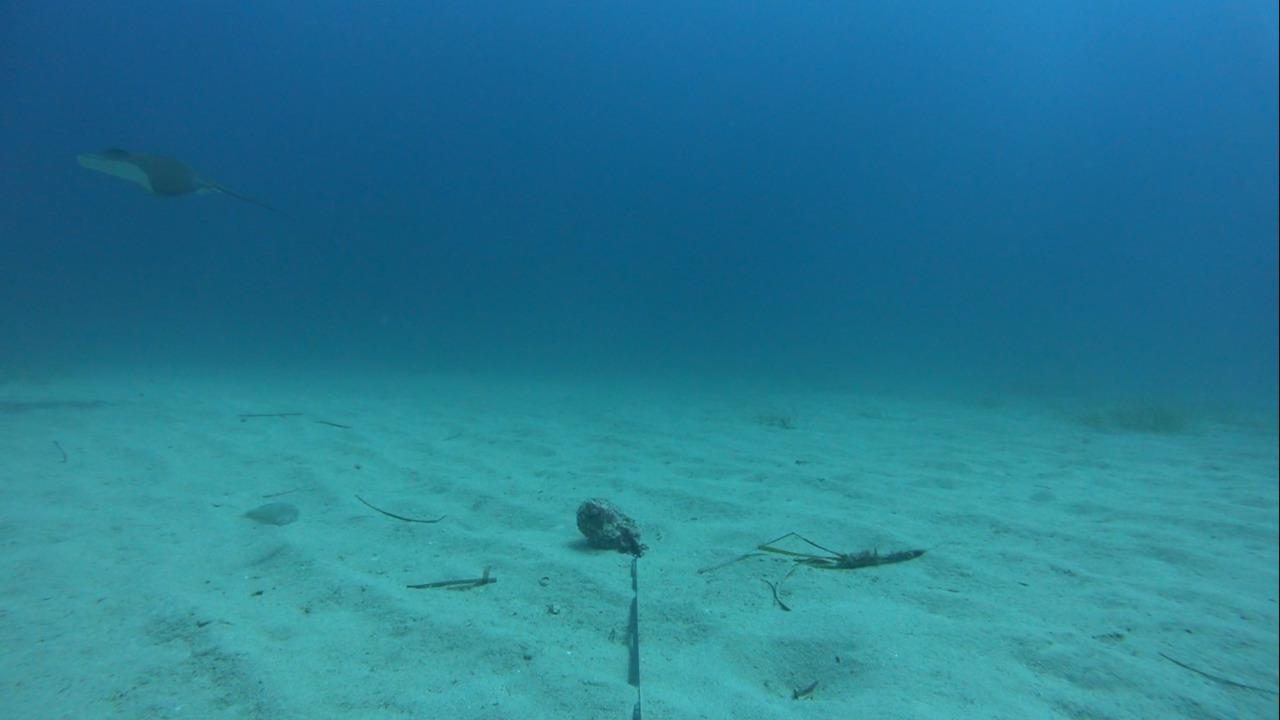myliobatis: (60, 139, 277, 217)
raor: (231, 495, 301, 528)
